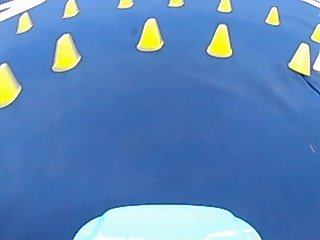cone: (51, 31, 81, 71), (135, 16, 164, 51), (0, 60, 22, 106), (206, 22, 233, 57), (288, 41, 311, 74), (15, 11, 33, 33), (264, 6, 280, 25), (62, 0, 78, 18), (216, 0, 232, 13), (309, 22, 319, 42), (117, 0, 132, 9)
